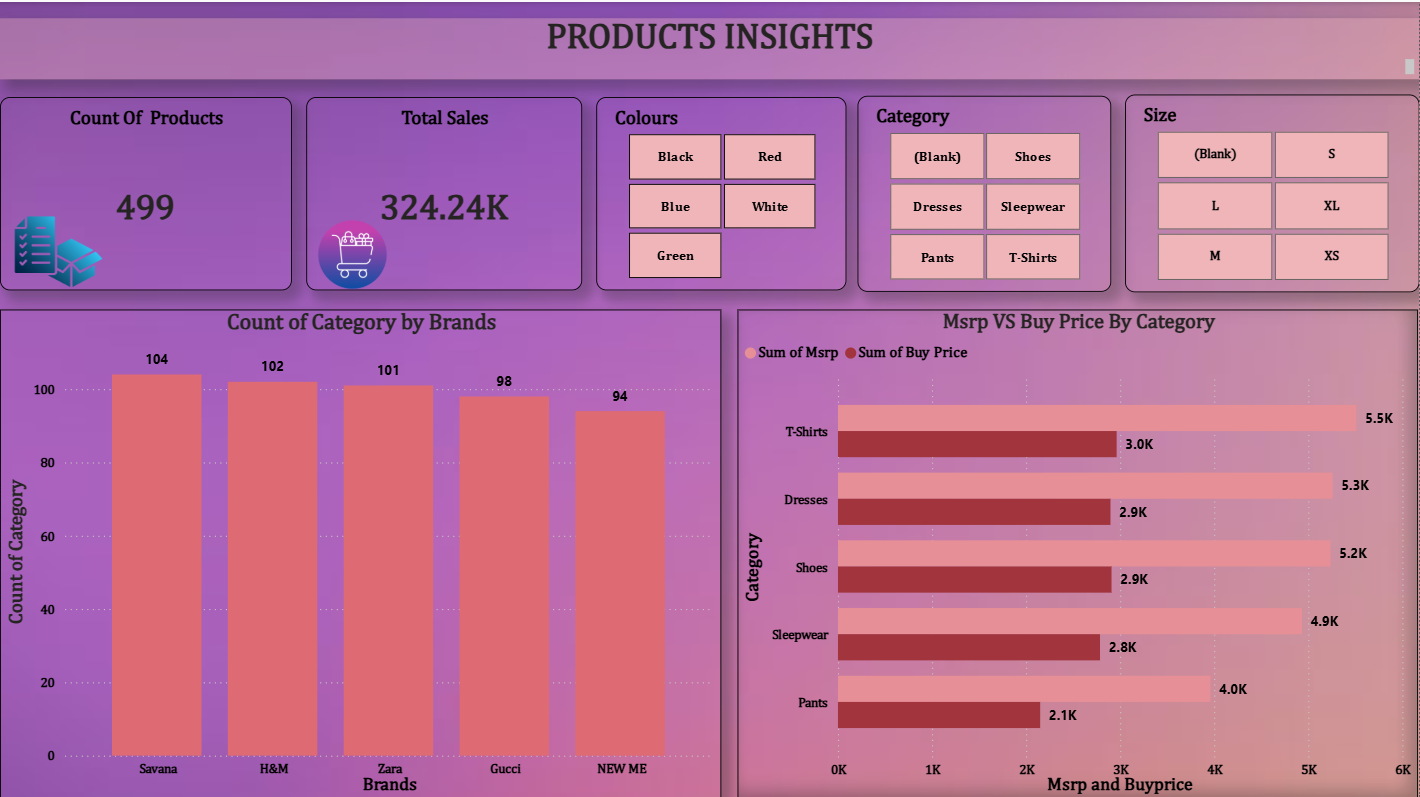

The dashboard page shown, as its layout file describes it:
{"tool":"powerbi","page":{"name":"PRODUCTS","canvas":[1280,720],"ordinal":3},"visuals":[{"type":"textbox","title":"PRODUCTS INSIGHTS","box":[0,14.7,1280.3,55],"z":0},{"type":"card","fields":{"Values":["CountNonNull(products.Products Name)"]},"box":[0,85.7,262.9,174.3],"z":1000},{"type":"card","fields":{"Values":["store sales.total sales"]},"box":[275.7,85.7,248.6,174.3],"z":2000},{"type":"slicer","fields":{"Values":["products.Category"]},"box":[772.9,84.3,228.6,177.1],"z":3000},{"type":"clusteredColumnChart","fields":{"Category":["products.Brands"],"Y":["CountNonNull(products.Category)"]},"box":[0,277.6,650.5,442.7],"z":4000},{"type":"clusteredBarChart","title":"Msrp  VS  Buy Price By Category","fields":{"Category":["products.Category"],"Y":["Sum(products.Msrp)","Sum(products.Buy Price)"]},"box":[665.2,277.6,613.9,442.7],"z":5000},{"type":"slicer","fields":{"Values":["products.Size"]},"box":[1014.3,82.9,265.7,178.6],"z":6000},{"type":"slicer","fields":{"Values":["products.colours"]},"box":[537.1,85.7,225.7,174.3],"z":7000}]}

Visuals, with their boxes in screenshot pixels (x1, y1, x2, y2), scaled from the page's 1280x720 canvas onto the 1420x797 screenshot:
"PRODUCTS INSIGHTS" textbox: 0, 16, 1419, 77
card - CountNonNull(products.Products Name): 0, 95, 292, 288
card - store sales.total sales: 306, 95, 582, 288
slicer - products.Category: 857, 93, 1111, 289
clusteredColumnChart - products.Brands x CountNonNull(products.Category): 0, 307, 722, 796
"Msrp  VS  Buy Price By Category" clusteredBarChart: 738, 307, 1419, 796
slicer - products.Size: 1125, 92, 1419, 289
slicer - products.colours: 596, 95, 846, 288
